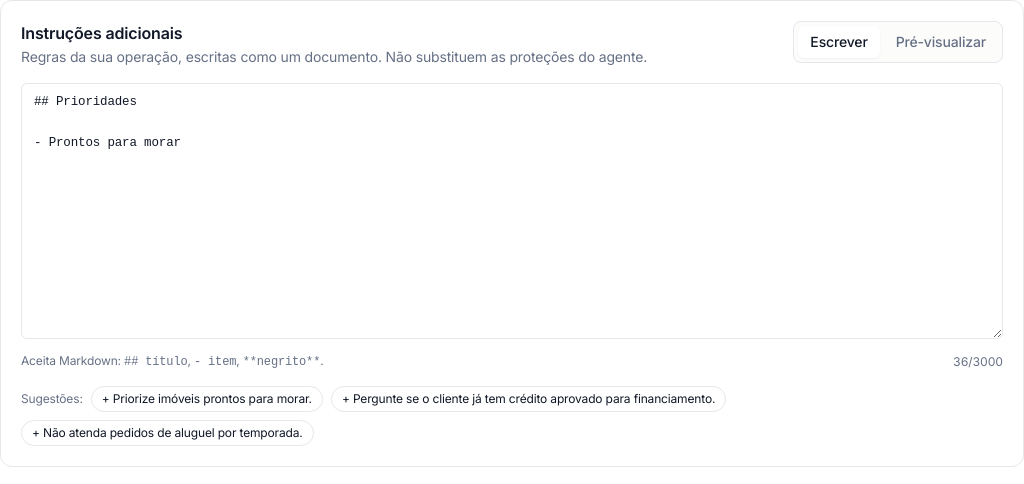
Test: editor do prompt › a pré-visualização renderiza o Markdown de verdade
Click the radio button labelled "Pré-visualizar": [941, 42] box [884,26,998,58]
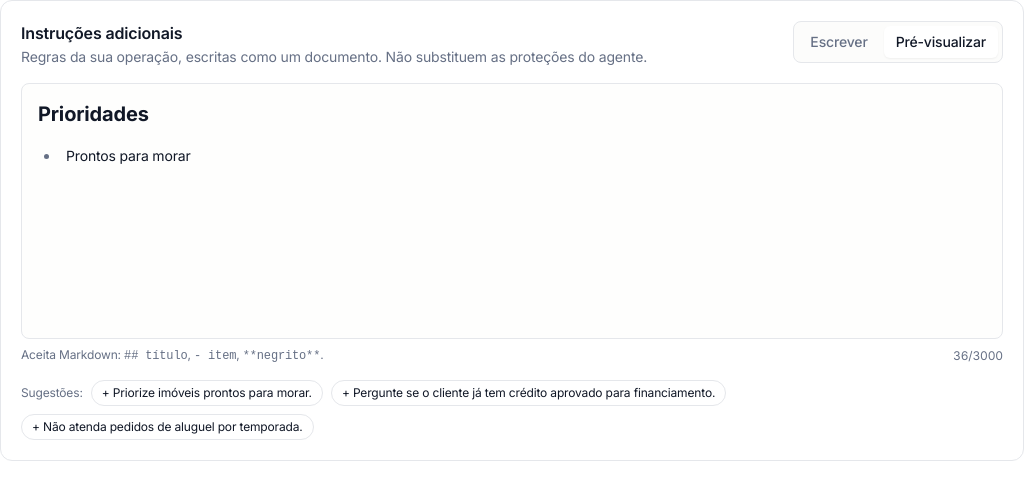
Now the heading "Prioridades" is shown, box [38,102,149,126]
Now the list item reads "Prontos para morar", box [66,147,191,164]
